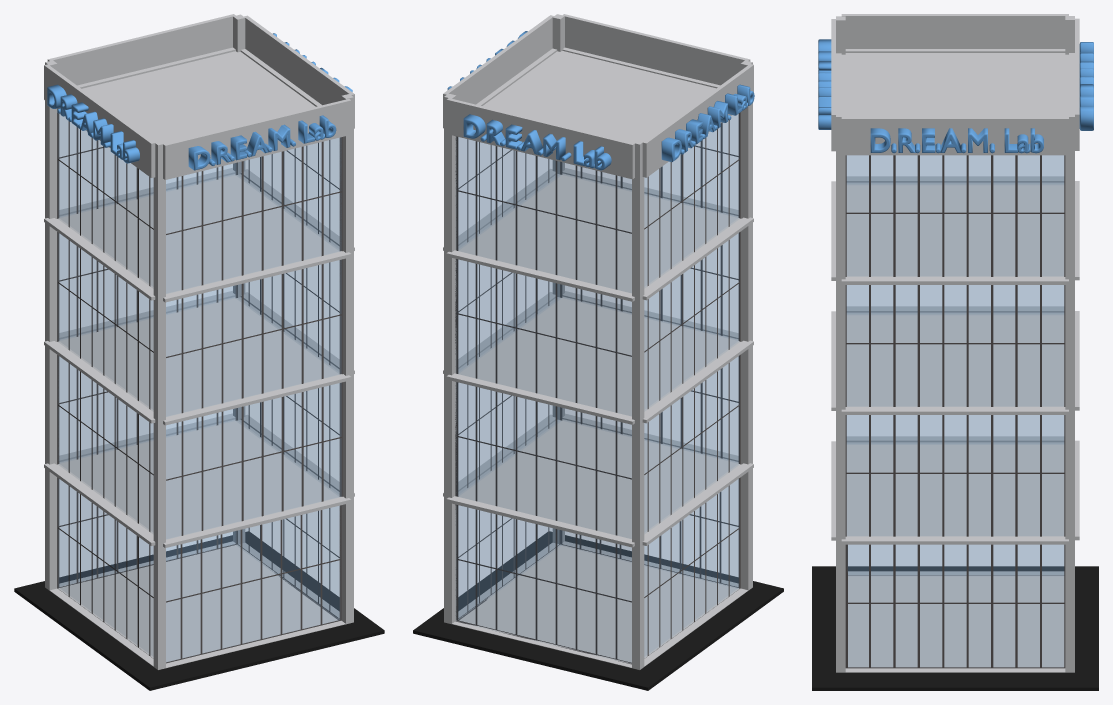
The model's file is EdificiosDREAM2.glb.
3 renders of one model, left to right at view 1: azimuth 30°, elevation 25°; view 2: azimuth 150°, elevation 25°; view 3: azimuth 270°, elevation 25°, orthographic. The views are drawn at different scales.
Visible parts, largest first — view 1: Techo1.003, Techo1.002, Techo1, Techo1.001, Pared04, Pared02_2do.001, Pared02_2do, Pared02_2do.002, Base_edificio, Pared03, Pared03_2do.001, Pared03_2do (+16 smaller); view 2: Techo1.003, Techo1, Techo1.001, Techo1.002, Pared01, Pared01_2do.001, Pared01_2do, Pared01_2do.002, Base_edificio, Pared03, Pared03_2do.001, Pared03_2do (+16 smaller); view 3: Techo1.003, Pared02, Pared04_2do.001, Pared04_2do, Pared04_2do.002, Techo1, Techo1.001, Techo1.002, Base_edificio, Base, Pared03, Pared03_2do (+7 smaller).
Part boxes in pixels (bbox=[...]): Techo1.003: bbox=[44, 14, 354, 179]; Techo1.002: bbox=[44, 168, 354, 302]; Techo1: bbox=[44, 413, 354, 547]; Techo1.001: bbox=[44, 291, 354, 425]; Pared04: bbox=[166, 505, 341, 663]; Pared02_2do.001: bbox=[166, 259, 342, 416]; Pared02_2do: bbox=[166, 382, 342, 538]; Pared02_2do.002: bbox=[166, 137, 342, 293]; Base_edificio: bbox=[45, 541, 353, 669]; Pared03: bbox=[57, 477, 153, 658]; Pared03_2do.001: bbox=[57, 232, 153, 409]; Pared03_2do: bbox=[57, 355, 153, 532]; Techo1.003: bbox=[443, 14, 753, 179]; Techo1: bbox=[443, 413, 753, 547]; Techo1.001: bbox=[443, 291, 753, 424]; Techo1.002: bbox=[443, 168, 753, 301]; Pared01: bbox=[455, 504, 631, 664]; Pared01_2do.001: bbox=[455, 259, 631, 415]; Pared01_2do: bbox=[455, 382, 631, 538]; Pared01_2do.002: bbox=[455, 136, 631, 292]; Base_edificio: bbox=[444, 541, 752, 669]; Pared03: bbox=[644, 478, 739, 658]; Pared03_2do.001: bbox=[644, 232, 740, 409]; Pared03_2do: bbox=[644, 355, 740, 531]; Techo1.003: bbox=[831, 14, 1079, 155]; Pared02: bbox=[845, 544, 1065, 668]; Pared04_2do.001: bbox=[845, 285, 1065, 406]; Pared04_2do: bbox=[845, 415, 1065, 536]; Pared04_2do.002: bbox=[845, 155, 1065, 276]; Techo1: bbox=[831, 436, 1079, 544]; Techo1.001: bbox=[831, 306, 1079, 414]; Techo1.002: bbox=[831, 176, 1079, 284]; Base_edificio: bbox=[836, 571, 1074, 672]; Base: bbox=[812, 566, 1098, 690]; Pared03: bbox=[848, 545, 1063, 575]; Pared03_2do: bbox=[847, 415, 1063, 443].
Bounding box in the file's own units: 300 × 651 × 300.
